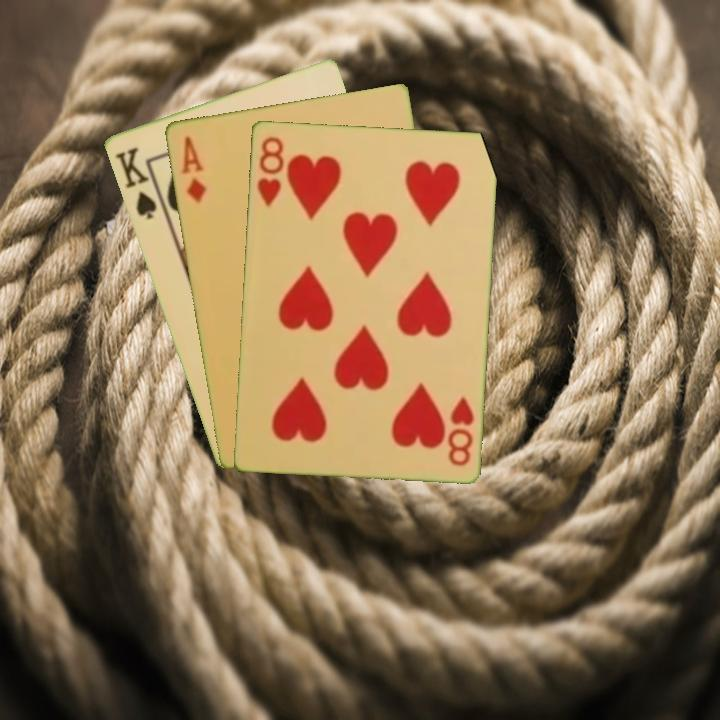8h: (443, 392, 477, 469), (253, 133, 286, 209)
Ad: (177, 132, 209, 205)
Ks: (111, 143, 167, 222)
